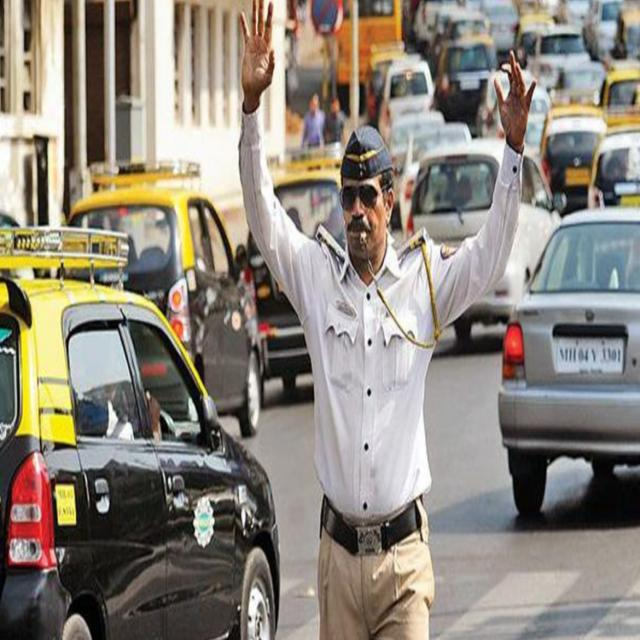car: (501, 202, 640, 517)
